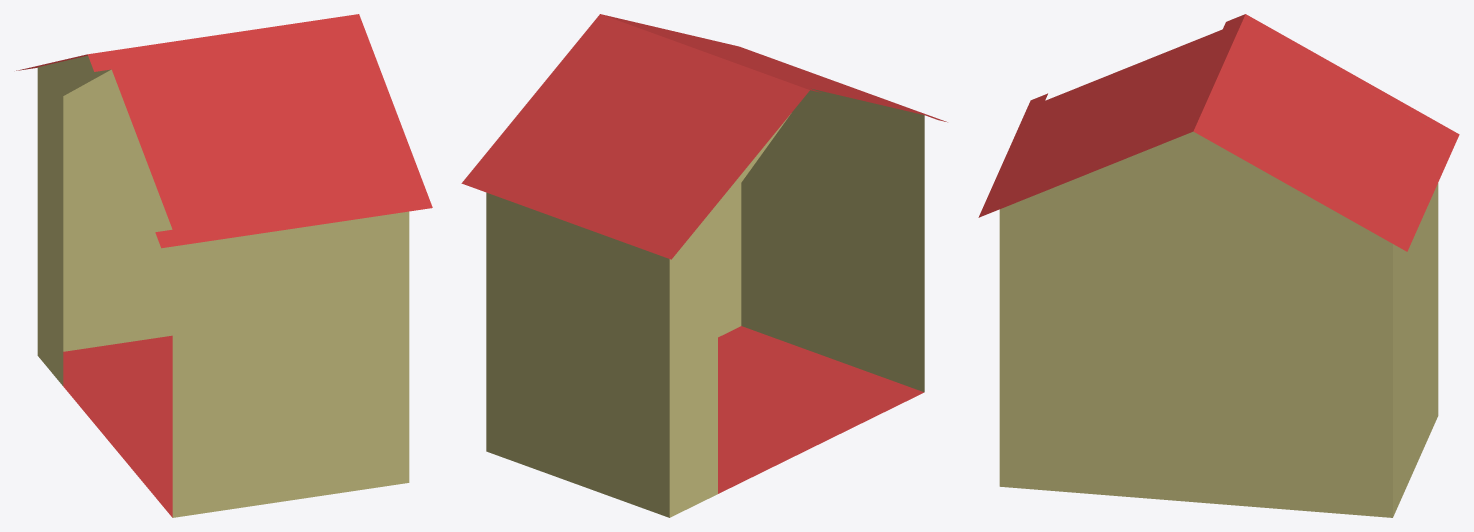
The picture shows the model from 3 angles, left to right: view 1: azimuth 30°, elevation 25°; view 2: azimuth 150°, elevation 25°; view 3: azimuth 270°, elevation 25°; orthographic projection. The views are drawn at different scales.
Size of the model in its own units: 9.91 by 13.29 by 11.53.
